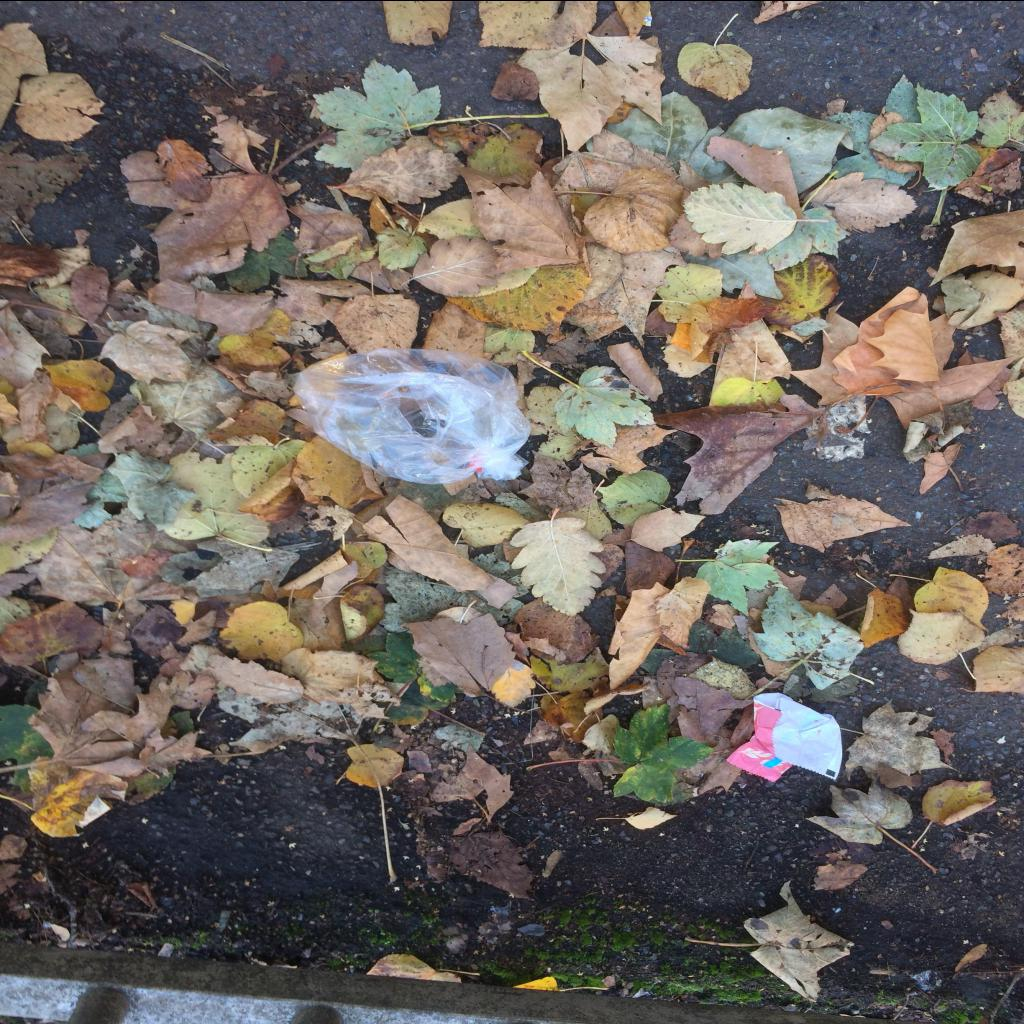Other plastic: (726, 692, 842, 781)
Plastic film: (293, 348, 531, 484)
